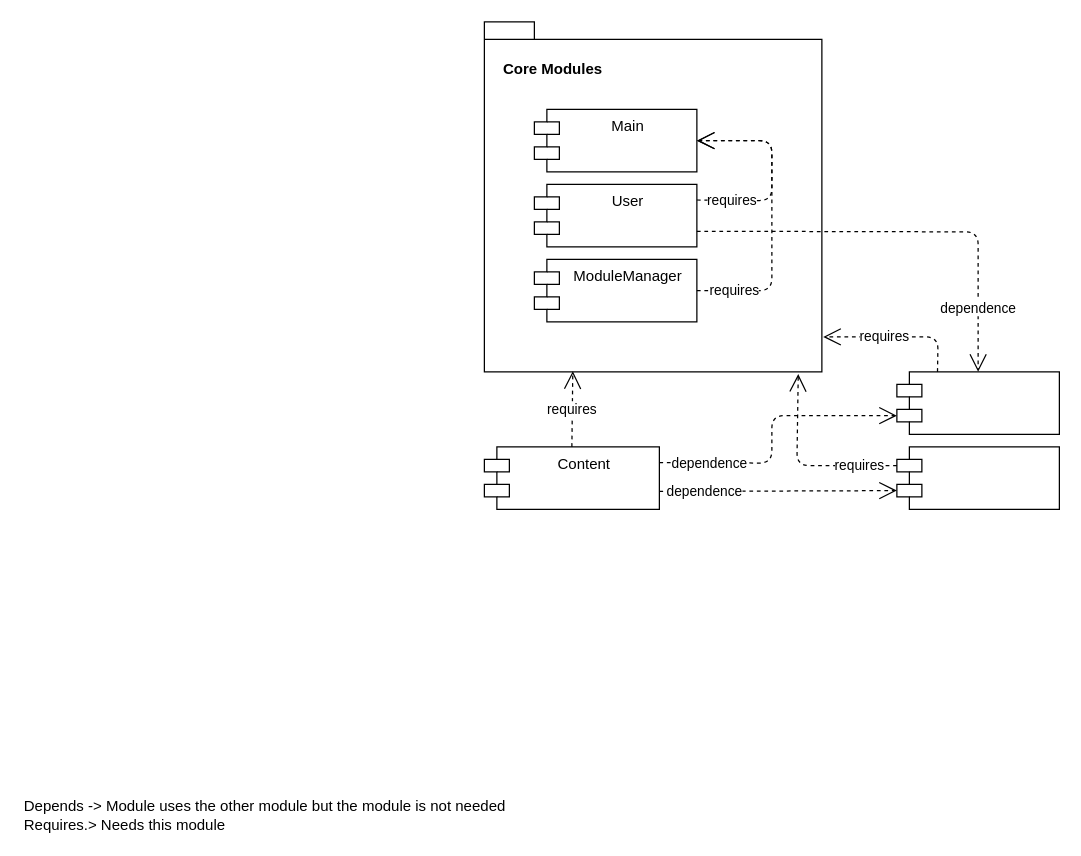
Image size: 1081x856. Some labels were removed from this diagram. The shapes that lost their labels are listed below. From the top down, each one's centre as x and y in pixels, then its label:
At point 977,402: "Search".
At point 977,477: "Sitemap".
